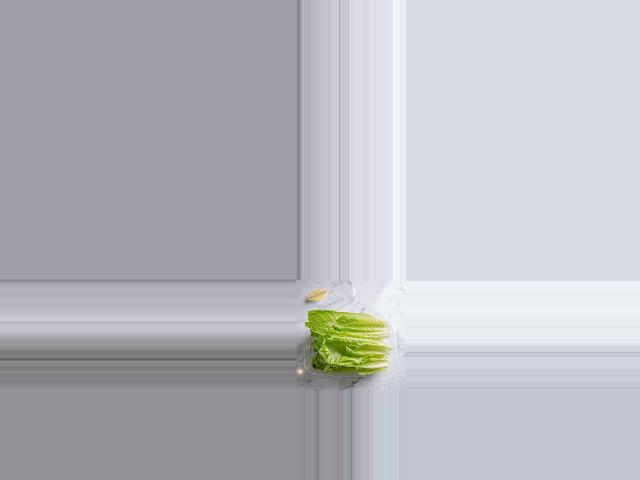lettuce: (304, 306, 391, 377)
